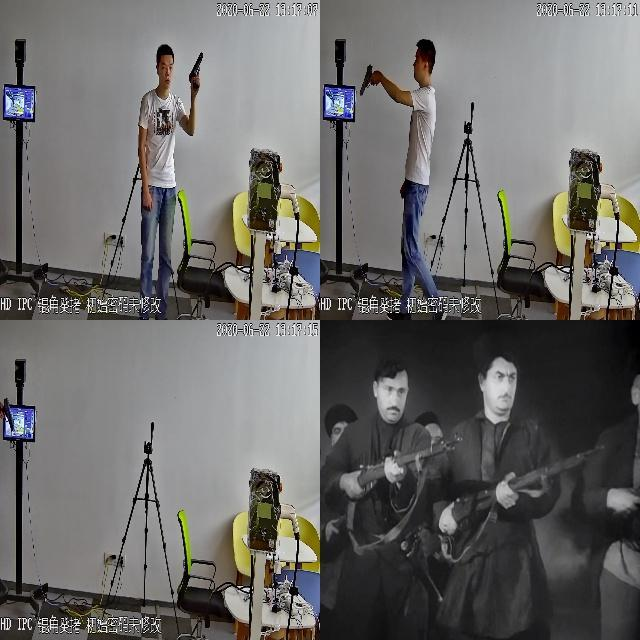gun-knife-thesis - v11 Yolov5 augmented: (429, 442, 607, 517), (339, 430, 461, 495), (357, 61, 377, 94), (187, 49, 202, 90), (0, 393, 15, 431)
